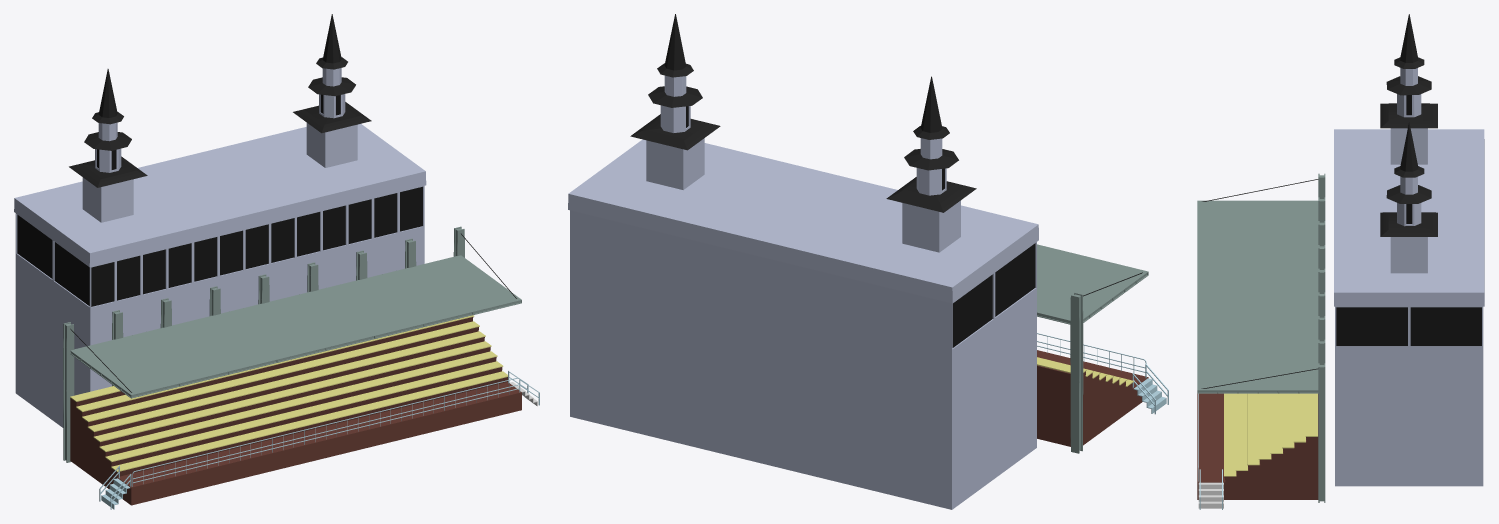
Rendered from grandstand.fbx.
3 renders of one model, left to right at view 1: azimuth 30°, elevation 25°; view 2: azimuth 150°, elevation 25°; view 3: azimuth 270°, elevation 25°, orthographic. The views are drawn at different scales.
Parts seen in each view (by area): view 1: stairs, roof.001, roof, press, windows, supports, steeple, seat.004, seat.002, seat.006, seat.003, seat.005 (+7 smaller); view 2: press, roof.001, stairs, roof, steeple, windows, Cube.002, Cube.004, supports, Cube.006, Cube.007; view 3: roof, press, roof.001, stairs, windows, Cube.002, supports, steeple, Cube.004, seat.007, seat.006, Cube.006 (+8 smaller).
Boxes of the visible parts, x1,y1,x2,y2 form: stairs: [70, 317, 521, 505]; roof.001: [14, 124, 426, 267]; roof: [70, 255, 521, 398]; press: [15, 185, 424, 427]; windows: [17, 186, 422, 306]; supports: [63, 226, 464, 462]; steeple: [82, 123, 357, 222]; seat.004: [93, 341, 491, 441]; seat.002: [82, 321, 479, 422]; seat.006: [105, 361, 503, 462]; seat.003: [87, 331, 485, 431]; seat.005: [99, 351, 497, 451]; press: [570, 210, 1036, 509]; roof.001: [568, 139, 1038, 303]; stairs: [1037, 350, 1148, 446]; roof: [1037, 244, 1148, 324]; steeple: [646, 138, 960, 252]; windows: [952, 243, 1035, 347]; Cube.002: [648, 14, 958, 170]; Cube.004: [630, 114, 976, 212]; supports: [1070, 292, 1083, 453]; Cube.006: [660, 105, 946, 195]; Cube.007: [664, 75, 942, 159]; roof: [1197, 200, 1318, 393]; press: [1335, 306, 1483, 486]; roof.001: [1334, 129, 1484, 306]; stairs: [1197, 393, 1318, 499]; windows: [1336, 307, 1481, 346]; Cube.002: [1386, 14, 1431, 203]; supports: [1318, 173, 1325, 502]; steeple: [1390, 128, 1427, 273]; Cube.004: [1380, 103, 1437, 236]; seat.007: [1224, 393, 1236, 476]; seat.006: [1235, 393, 1247, 470]; Cube.006: [1397, 94, 1421, 226].
Size of the model in its own units: 3559 by 2694 by 2074.
